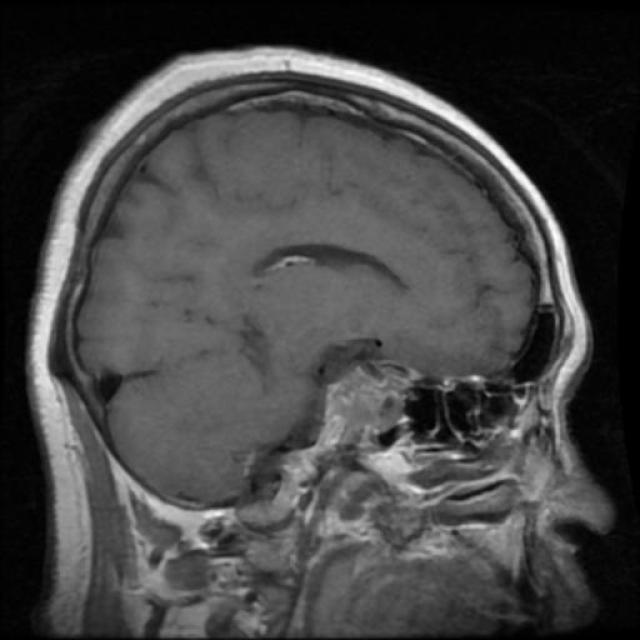pituitary: (316, 348, 420, 442)
